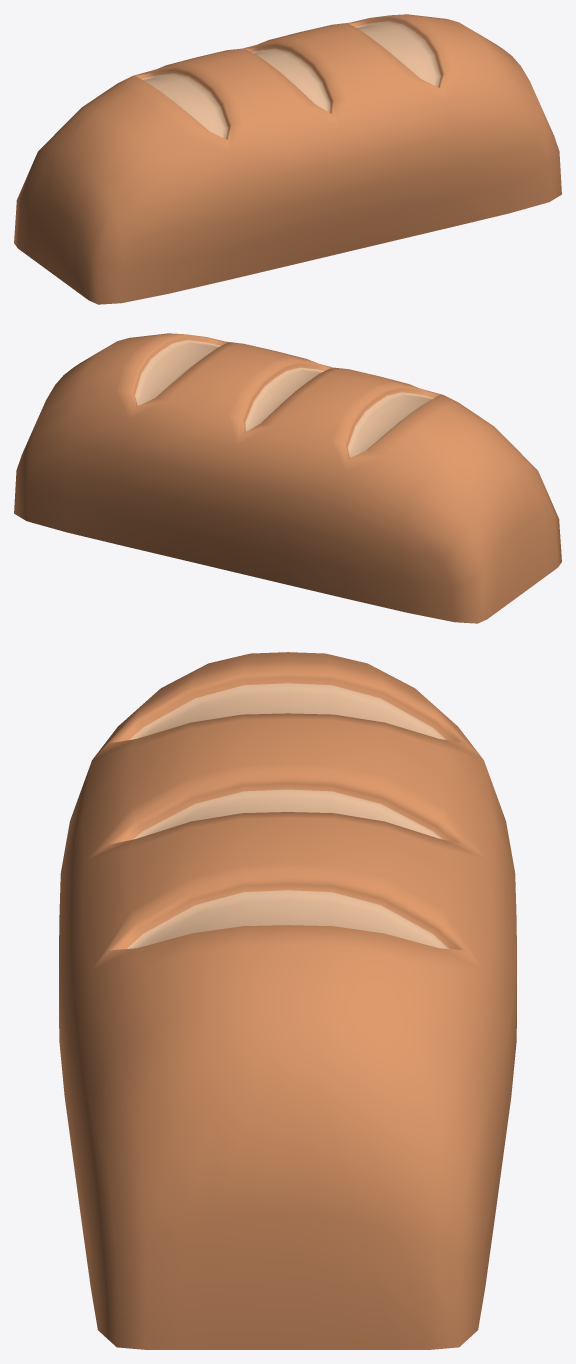
Rendered from Bread_Food.glb.
3 renders of one model, top to bottom at view 1: azimuth 30°, elevation 25°; view 2: azimuth 150°, elevation 25°; view 3: azimuth 270°, elevation 25°, orthographic. The views are drawn at different scales.
Parts seen in each view (by area): view 1: Bread_Food; view 2: Bread_Food; view 3: Bread_Food.
Boxes of the visible parts, left/top/right/bottom form: Bread_Food: left=14, top=14, right=561, bottom=304; Bread_Food: left=14, top=333, right=561, bottom=623; Bread_Food: left=59, top=652, right=516, bottom=1349.
Size of the model in its own units: 0.1499 by 0.0505 by 0.0635.
1 material, 1 textured.
